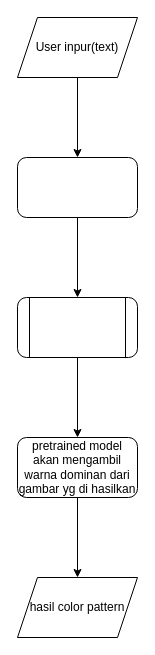
This 155x655 diagram has some shape labels left out. The shapes that lost their labels are listed below. From the top down, each one's box as (x1, y1, x2, y2) in pixels, then its label:
(16, 156, 138, 218): model (maybe stable diffusion) membuat gambar dari text inputan user
(16, 296, 138, 358): hasil gambar keluar
